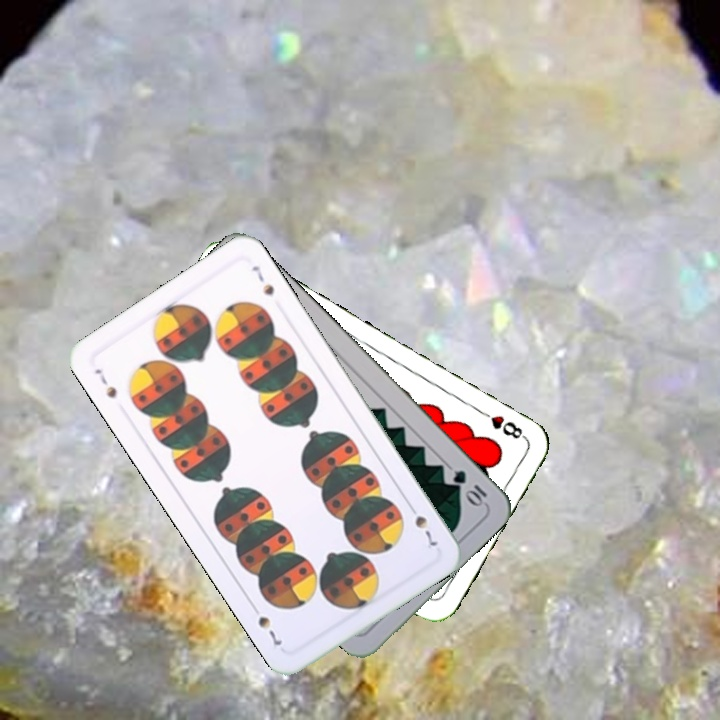G10: (449, 466, 490, 510)
H8: (475, 406, 529, 442)
S7: (404, 499, 441, 550), (90, 364, 120, 401)
